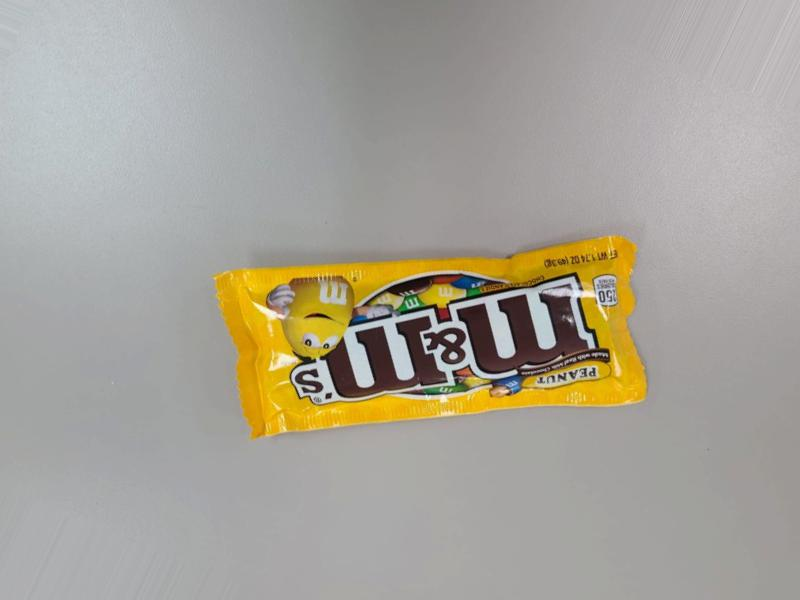m&m: (202, 229, 656, 430)
